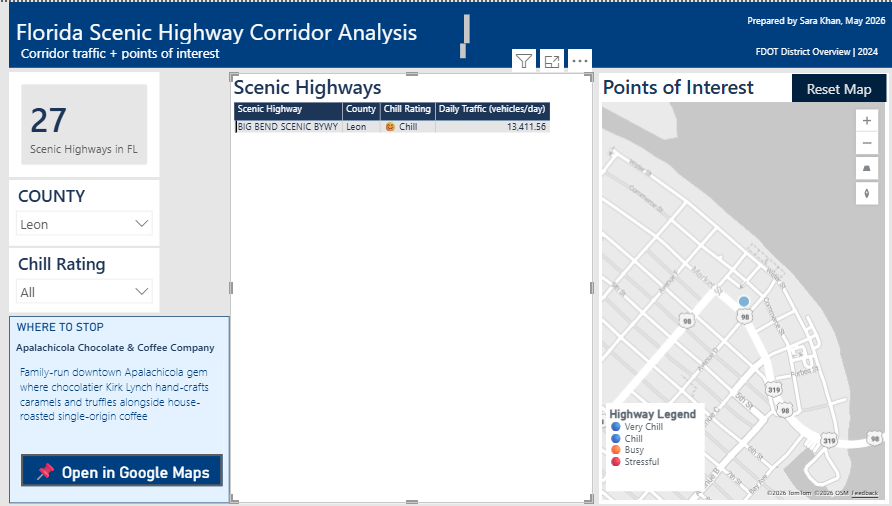

Layout of this report page (visuals, bound fields, positions):
{"tool":"powerbi","page":{"name":"Scenic Highways","canvas":[1280,720],"ordinal":1},"visuals":[{"type":"azureMap","title":"Points of Interest","fields":{"Y":["scenicn high way stops.Latitude"],"X":["scenicn high way stops.Longitude"],"Series":["Highway Summary.Chill Rating"]},"box":[856.2,101.2,413.8,615],"z":0},{"type":"shape","box":[13,0,1267,94],"z":1000},{"type":"textbox","box":[22.2,12.2,647.8,46.7],"z":2000},{"type":"textbox","box":[1059.3,56.6,204.3,30],"z":3000},{"type":"cardVisual","fields":{"Data":["Highway Summary.Statewide Avg AADT"]},"box":[12.5,100,215,150],"z":4000},{"type":"textbox","box":[24.3,54.3,645.7,32.9],"z":5000},{"type":"slicer","fields":{"Values":["Highway Summary.COUNTY"]},"box":[12.5,253.8,215,93.8],"z":6000},{"type":"slicer","fields":{"Values":["Highway Summary.Chill Rating"]},"box":[13,351,215,92],"z":7000},{"type":"shape","box":[12.5,448.8,315,267.5],"z":8000},{"type":"textbox","box":[19.2,449.1,260,40],"z":9000},{"type":"cardVisual","fields":{"Data":["scenicn high way stops.Recommended Stop"]},"box":[22.5,471.2,297.5,40],"z":10000},{"type":"cardVisual","fields":{"Data":["Min(scenicn high way stops.Charm Note)"]},"box":[28.3,511.7,291.7,165],"z":11000},{"type":"actionButton","box":[30,646.2,287.5,46.2],"z":12000},{"type":"tableEx","title":"Scenic Highways","fields":{"Values":["Highway Summary.DESCRIPT","Highway Summary.COUNTY","Highway Summary.Chill Rating","Sum(Highway Summary.Avg AADT)"]},"box":[328.8,101.2,518.8,615],"z":13000},{"type":"actionButton","box":[1131.2,102.5,135,40],"z":14000},{"type":"textbox","box":[1051.2,12.5,218.8,30],"z":16000},{"type":"textbox","box":[866.2,572.5,141.2,126.2],"z":17000}]}

Visuals, with their boxes in screenshot pixels (x1, y1, x2, y2), scaled from the page's 1280x720 canvas onto the 892x506 screenshot:
"Points of Interest" azureMap: select_region(597, 71, 885, 503)
shape: select_region(9, 0, 891, 66)
textbox: select_region(15, 9, 467, 41)
textbox: select_region(738, 40, 881, 61)
cardVisual - Highway Summary.Statewide Avg AADT: select_region(9, 70, 159, 176)
textbox: select_region(17, 38, 467, 61)
slicer - Highway Summary.COUNTY: select_region(9, 178, 159, 244)
slicer - Highway Summary.Chill Rating: select_region(9, 247, 159, 311)
shape: select_region(9, 315, 228, 503)
textbox: select_region(13, 316, 195, 344)
cardVisual - scenicn high way stops.Recommended Stop: select_region(16, 331, 223, 359)
cardVisual - Min(scenicn high way stops.Charm Note): select_region(20, 360, 223, 476)
actionButton: select_region(21, 454, 221, 487)
"Scenic Highways" tableEx: select_region(229, 71, 591, 503)
actionButton: select_region(788, 72, 882, 100)
textbox: select_region(733, 9, 885, 30)
textbox: select_region(604, 402, 702, 491)
